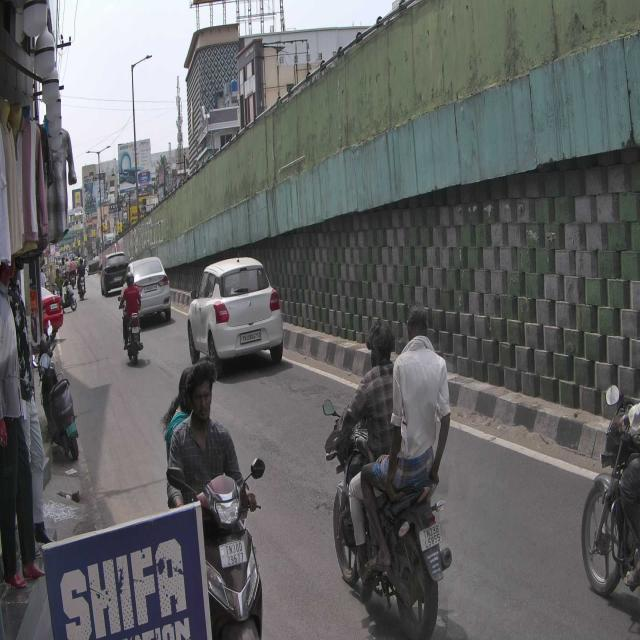double_rider: (323, 298, 451, 638), (162, 351, 263, 640)
